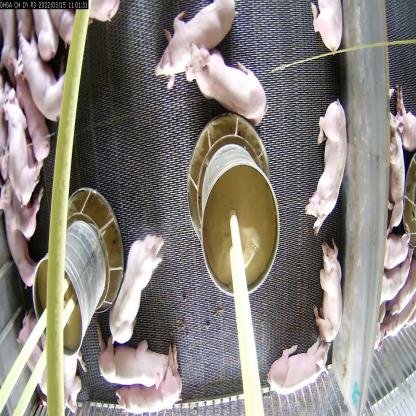Pig: (158, 0, 239, 87), (181, 53, 269, 131), (98, 235, 161, 327), (309, 92, 352, 222), (271, 333, 335, 414), (18, 30, 70, 122), (105, 359, 184, 415), (314, 241, 350, 353), (95, 330, 163, 389), (2, 93, 38, 196)
